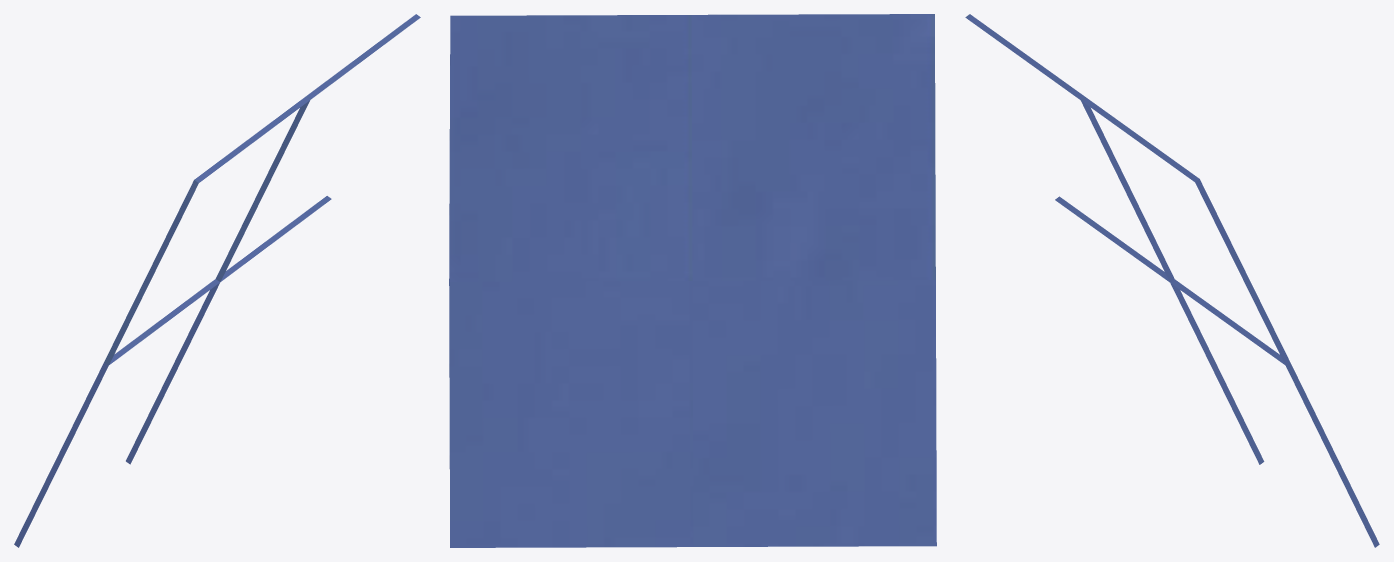
The picture shows the model from 3 angles, left to right: view 1: azimuth 30°, elevation 25°; view 2: azimuth 150°, elevation 25°; view 3: azimuth 270°, elevation 25°; orthographic projection. The views are drawn at different scales.
Size of the model in its own units: 19646 by 17910 by 16343.
1 material, 1 textured.
